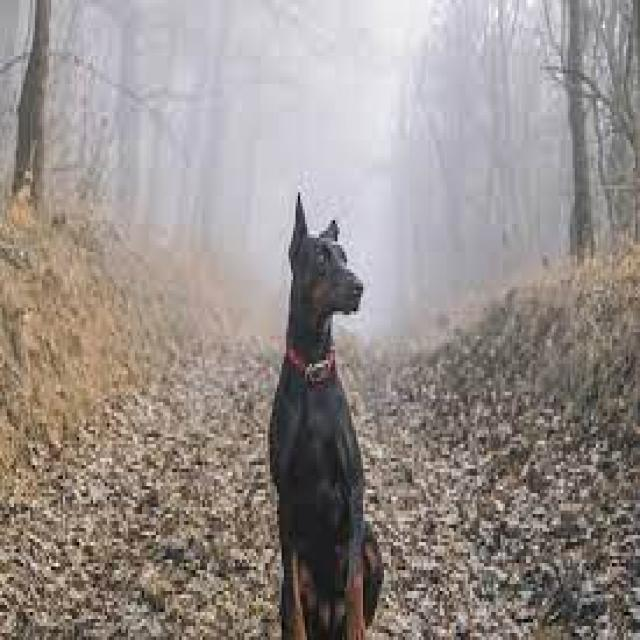Dog: (265, 188, 389, 640)
